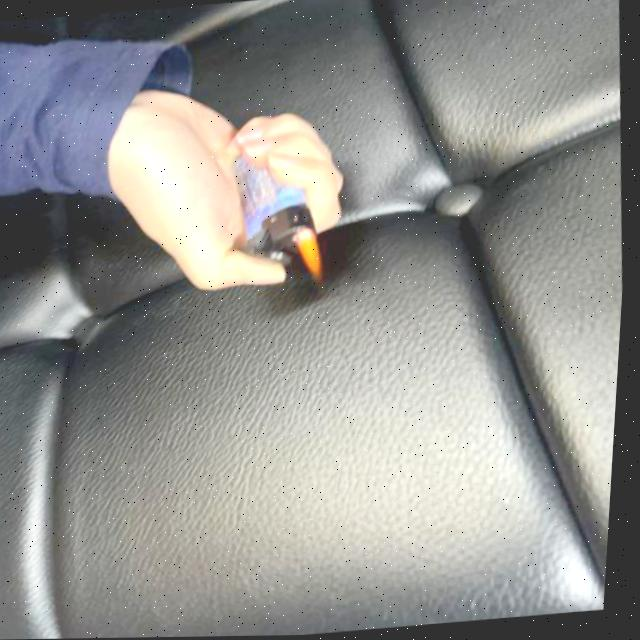Fire: (294, 225, 328, 282)
